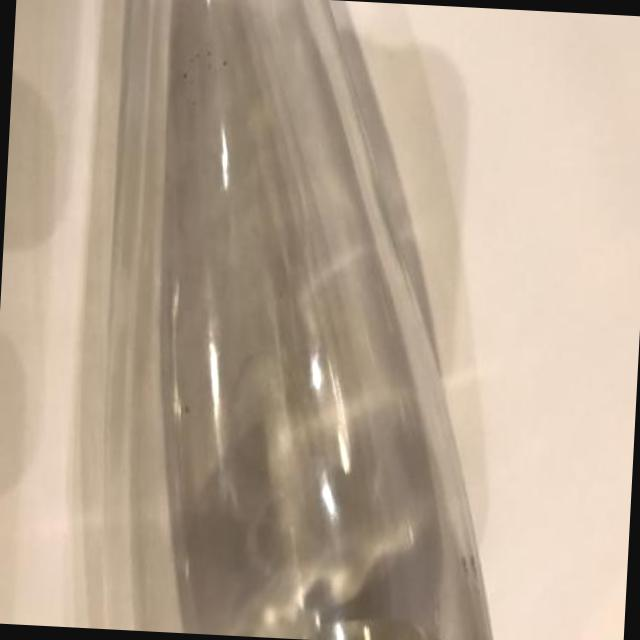chai_thuy_tinh: (155, 0, 490, 640)
